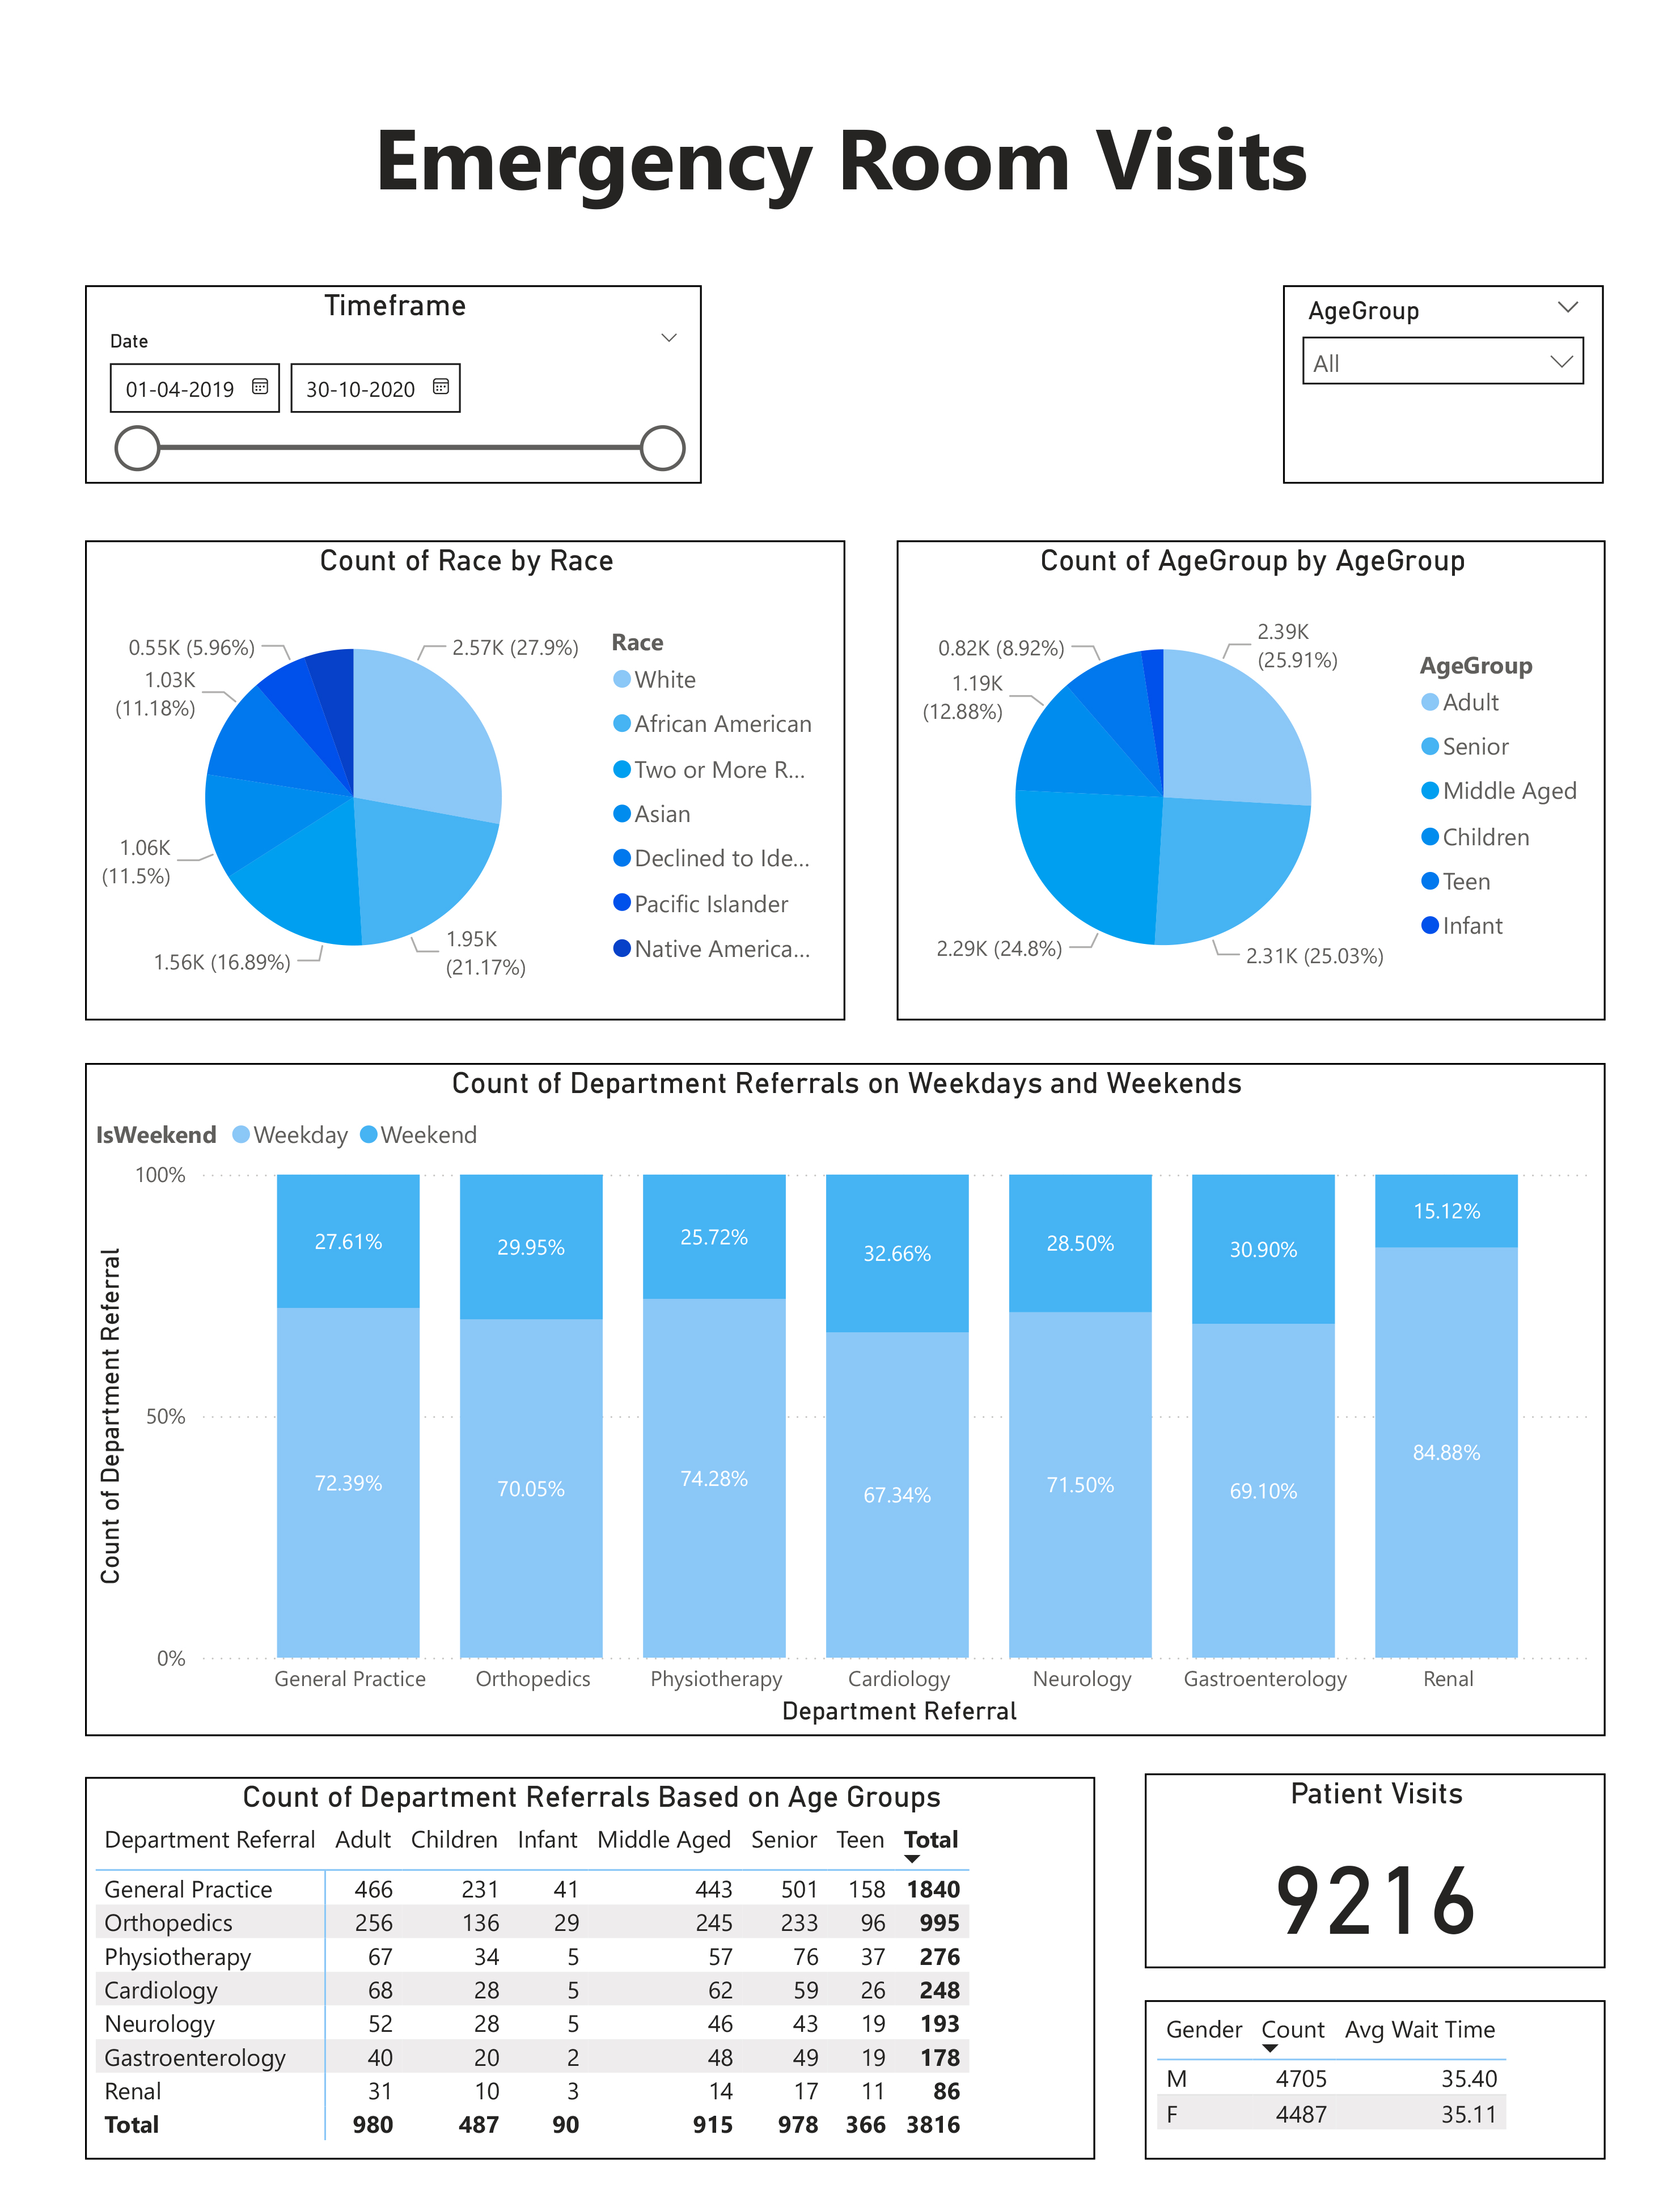

The page's visual inventory and layout, read from the dashboard file:
{"tool":"powerbi","page":{"name":"Page 1","canvas":[900,1200],"ordinal":0},"visuals":[{"type":"slicer","title":"Timeframe","fields":{"Values":["Hospital ER.Date"]},"box":[24.2,136.8,347.7,112.6],"z":0},{"type":"hundredPercentStackedColumnChart","title":"Count of Department Referrals on Weekdays and Weekends","fields":{"Y":["CountNonNull(Hospital ER.Department Referral)"],"Category":["Hospital ER.Department Referral"],"Series":["Hospital ER.IsWeekend"]},"box":[24.2,575.8,857.4,380],"z":1000},{"type":"tableEx","title":"Gender Percentage","fields":{"Values":["Hospital ER.Gender","CountNonNull(Hospital ER.Gender)","Avg(Hospital ER.Wait Time)"]},"box":[621.7,1104.9,260,89.7],"z":2000},{"type":"slicer","fields":{"Values":["Hospital ER.AgeGroup"]},"box":[699.8,136.8,181,112.6],"z":3000},{"type":"pivotTable","title":"Count of Department Referrals  Based on Age Groups","fields":{"Rows":["Hospital ER.Department Referral"],"Values":["CountNonNull(Hospital ER.AgeGroup)"],"Columns":["Hospital ER.AgeGroup"]},"box":[24.2,978.7,570.1,215.9],"z":4000},{"type":"card","title":"Patient Visits","fields":{"Values":["CountNonNull(Hospital ER.Patient ID)"]},"box":[621.7,977.2,260,109.5],"z":5000},{"type":"pieChart","fields":{"Y":["CountNonNull(Hospital ER.Race)"],"Category":["Hospital ER.Race"]},"box":[24.2,280.9,428.7,270.6],"z":6000},{"type":"pieChart","fields":{"Y":["CountNonNull(Hospital ER.AgeGroup)"],"Category":["Hospital ER.AgeGroup"]},"box":[481.8,280.9,399.8,270.6],"z":7000},{"type":"textbox","box":[179,8.8,542.7,111],"z":8000}]}

Visuals, with their boxes in screenshot pixels (x1, y1, x2, y2):
"Timeframe" slicer: <box>86,285,701,484</box>
"Count of Department Referrals on Weekdays and Weekends" hundredPercentStackedColumnChart: <box>86,1062,1605,1736</box>
"Gender Percentage" tableEx: <box>1144,2000,1605,2159</box>
slicer - Hospital ER.AgeGroup: <box>1283,285,1603,484</box>
"Count of Department Referrals  Based on Age Groups" pivotTable: <box>86,1776,1096,2159</box>
"Patient Visits" card: <box>1144,1774,1605,1968</box>
pieChart - CountNonNull(Hospital ER.Race) x Hospital ER.Race: <box>86,540,845,1019</box>
pieChart - CountNonNull(Hospital ER.AgeGroup) x Hospital ER.AgeGroup: <box>896,540,1605,1019</box>
textbox: <box>359,58,1322,255</box>
